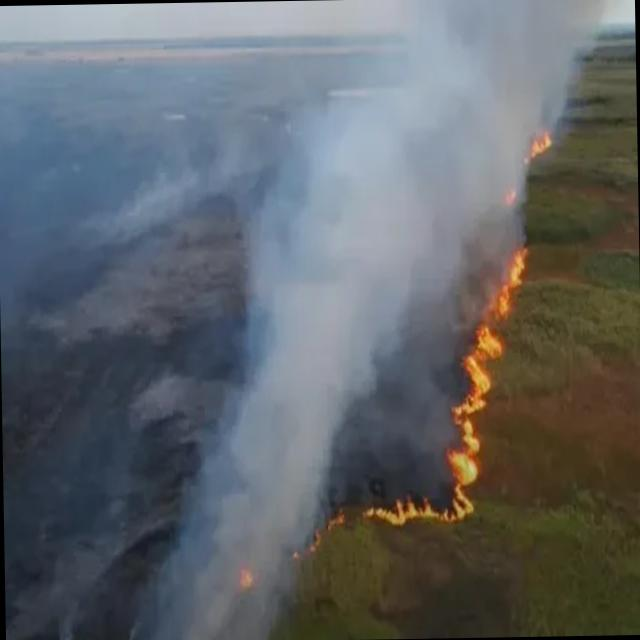Smoke: (142, 0, 613, 640)
